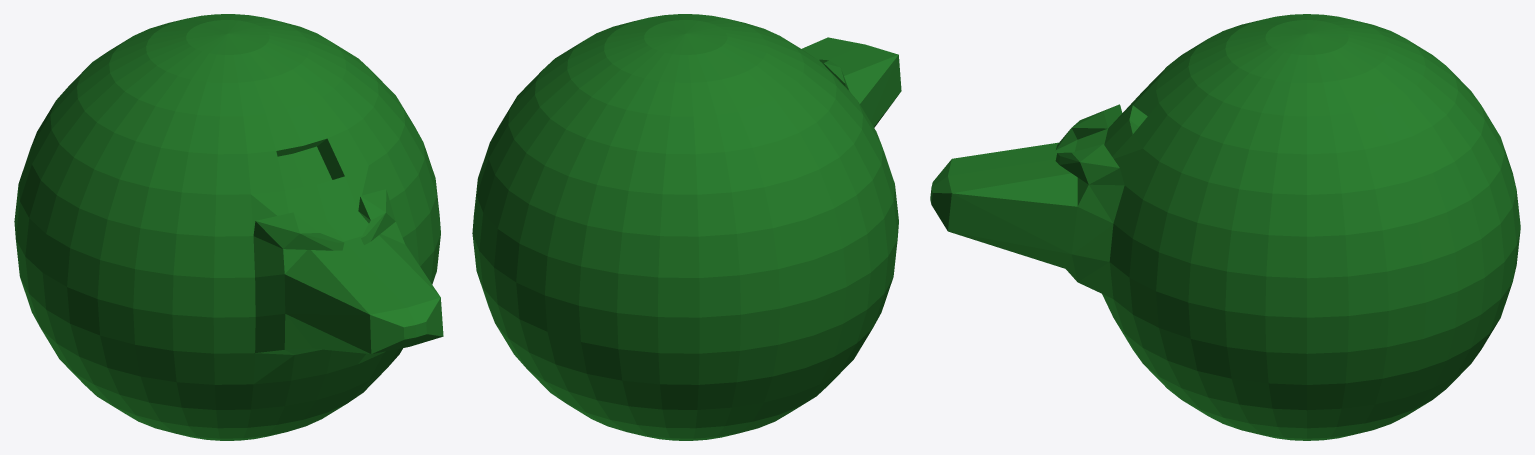
The model's file is magic.dae.
3 renders of one model, left to right at view 1: azimuth 30°, elevation 25°; view 2: azimuth 150°, elevation 25°; view 3: azimuth 270°, elevation 25°, orthographic.
Parts seen in each view (by area): view 1: Сфера; view 2: Сфера; view 3: Сфера.
Boxes of the visible parts, x1=… form: Сфера: x1=14, y1=14, x2=443, y2=440; Сфера: x1=472, y1=14, x2=901, y2=440; Сфера: x1=930, y1=14, x2=1520, y2=440.
Bounding box in the file's own units: 2 × 2.76 × 2.
